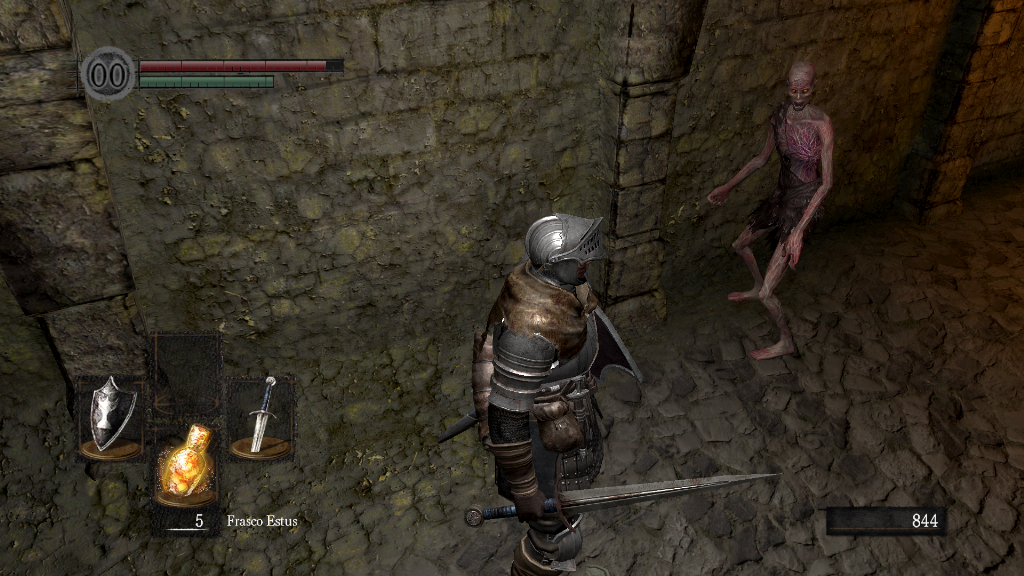health: (138, 58, 343, 71)
hollow: (707, 61, 836, 359)
humanity: (80, 45, 136, 102)
player: (439, 214, 782, 576)
souls: (825, 506, 945, 536)
stamina: (138, 74, 274, 88)
